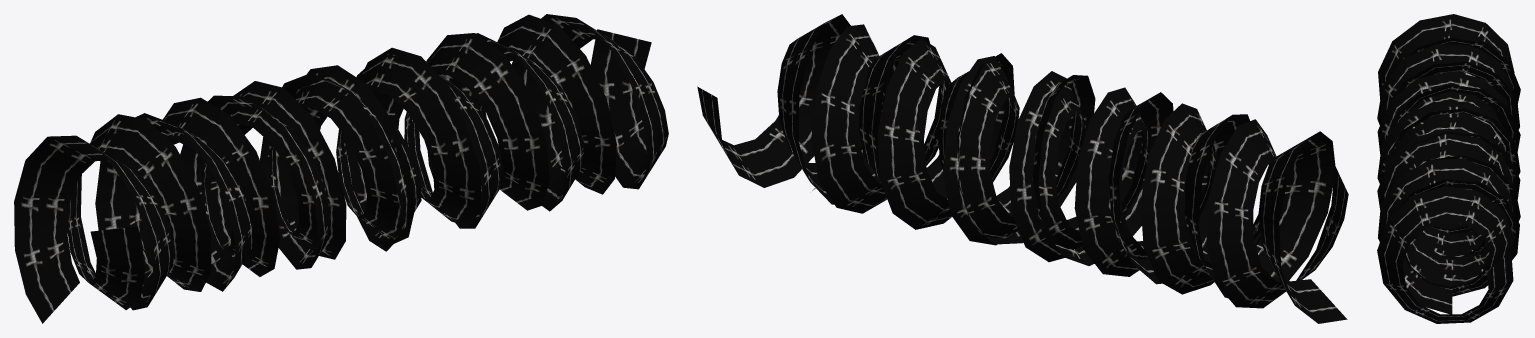
Rendered from Barbed_wire.fbx.
3 renders of one model, left to right at view 1: azimuth 30°, elevation 25°; view 2: azimuth 150°, elevation 25°; view 3: azimuth 270°, elevation 25°, orthographic. The views are drawn at different scales.
Visible parts, largest first — view 1: polySurface148; view 2: polySurface148; view 3: polySurface148.
Boxes of the visible parts, x1,y1,x2,y2 form: polySurface148: (14,14,668,323); polySurface148: (697,14,1348,323); polySurface148: (1377,14,1520,323).
Size of the model in its own units: 5.08 by 1.33 by 1.39.
1 material, 1 textured.
